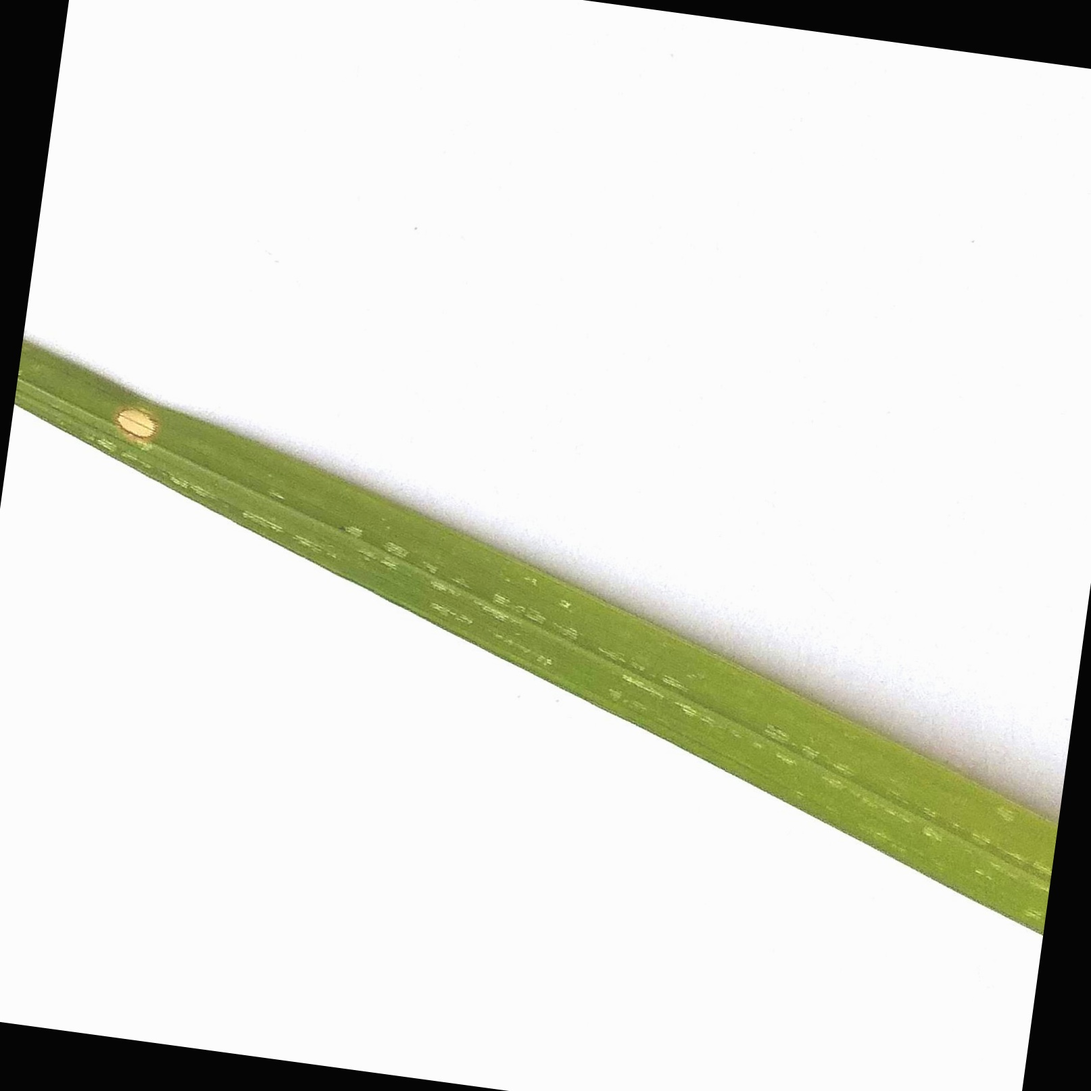Brown_Spot: (97, 390, 169, 442)
